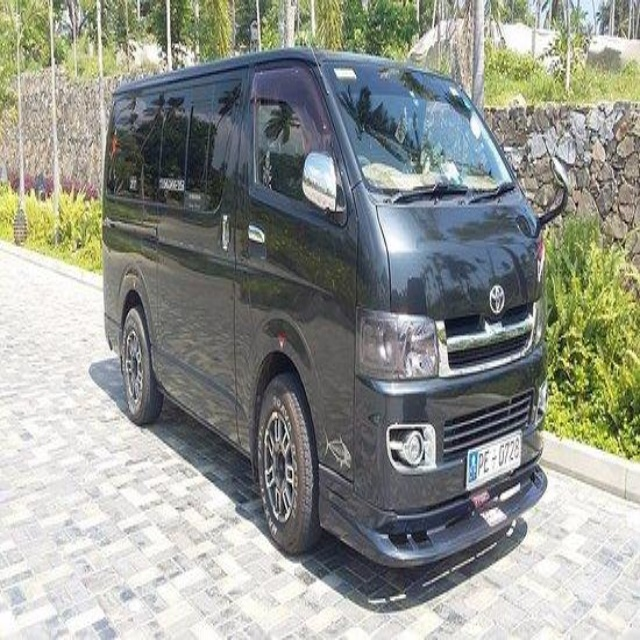Van: (102, 48, 548, 574)
